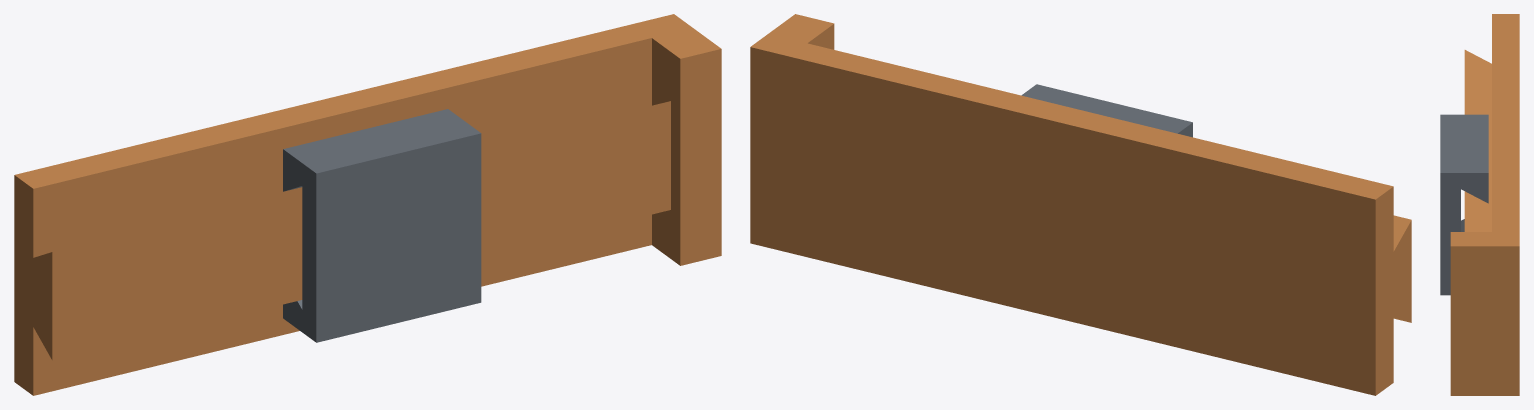
3 renders of one model, left to right at view 1: azimuth 30°, elevation 25°; view 2: azimuth 150°, elevation 25°; view 3: azimuth 270°, elevation 25°, orthographic. The views are drawn at different scales.
Visible parts, largest first — view 1: rail, chariot; view 2: rail, chariot; view 3: rail, chariot.
Part boxes in pixels (x1,y1,x2,y2): rail: (14,14,721,395); chariot: (283,109,481,342); rail: (750,14,1411,395); chariot: (1021,84,1192,137); rail: (1450,14,1519,395); chariot: (1440,114,1488,295).
Size of the model in its own units: 80 by 24 by 11.5.
